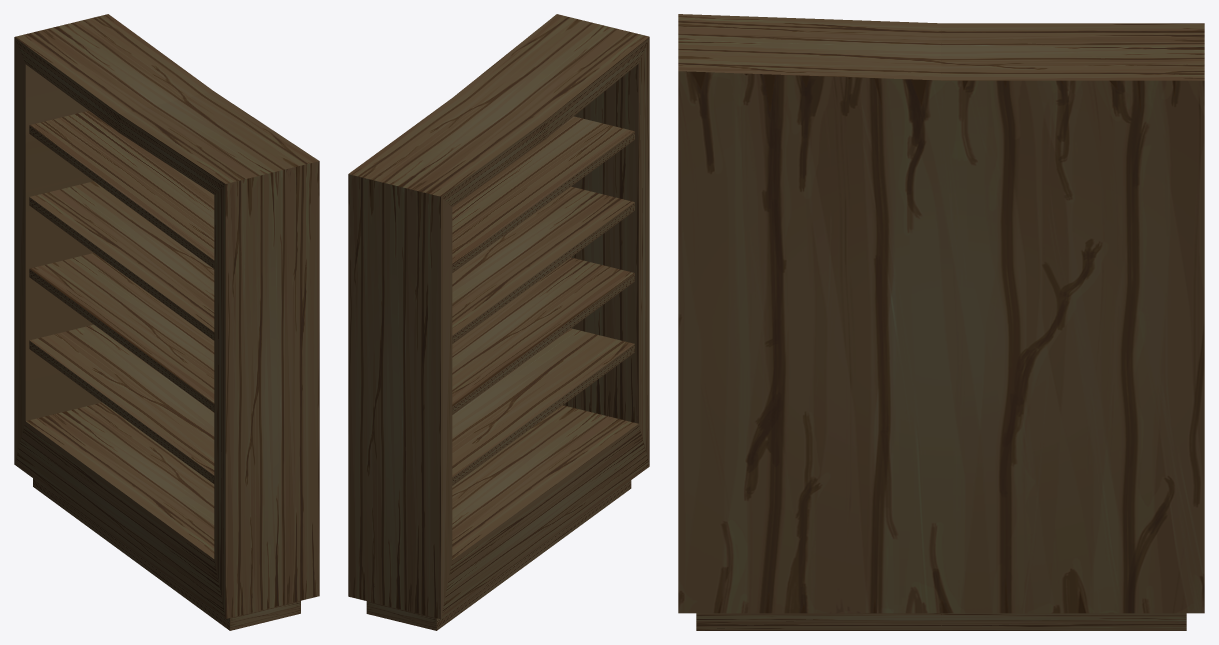
File: legnoScaffale.fbx
3 renders of one model, left to right at view 1: azimuth 30°, elevation 25°; view 2: azimuth 150°, elevation 25°; view 3: azimuth 270°, elevation 25°, orthographic. The views are drawn at different scales.
Parts seen in each view (by area): view 1: Cube.056_legno.001_0; view 2: Cube.056_legno.001_0; view 3: Cube.056_legno.001_0.
Part boxes in pixels (box(x1,y1,x2,y2)): Cube.056_legno.001_0: box(14, 14, 319, 630); Cube.056_legno.001_0: box(348, 14, 649, 630); Cube.056_legno.001_0: box(678, 14, 1204, 630).
Size of the model in its own units: 61.77 by 285 by 240.
